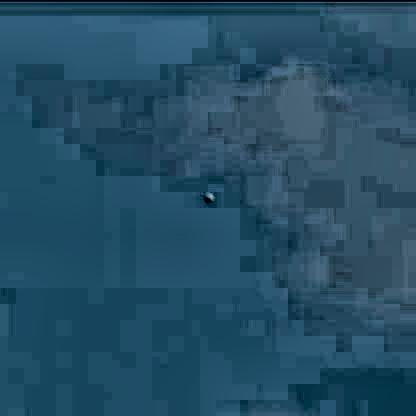golfball: (201, 191, 212, 202)
